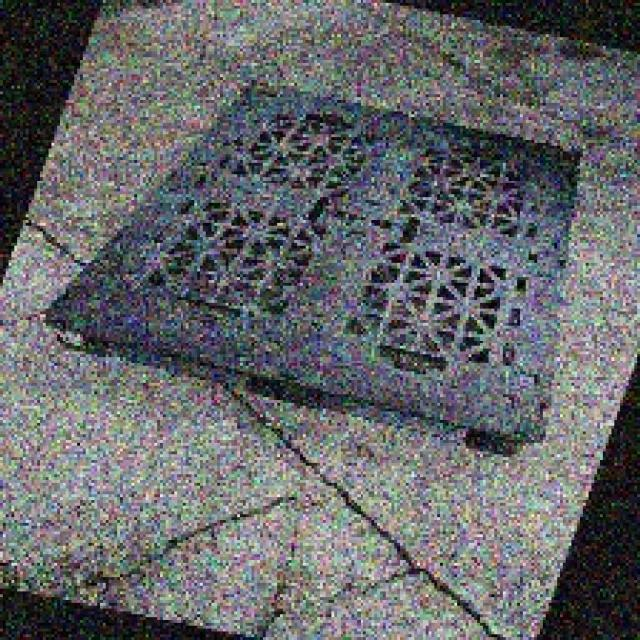igps: (37, 72, 590, 464)
